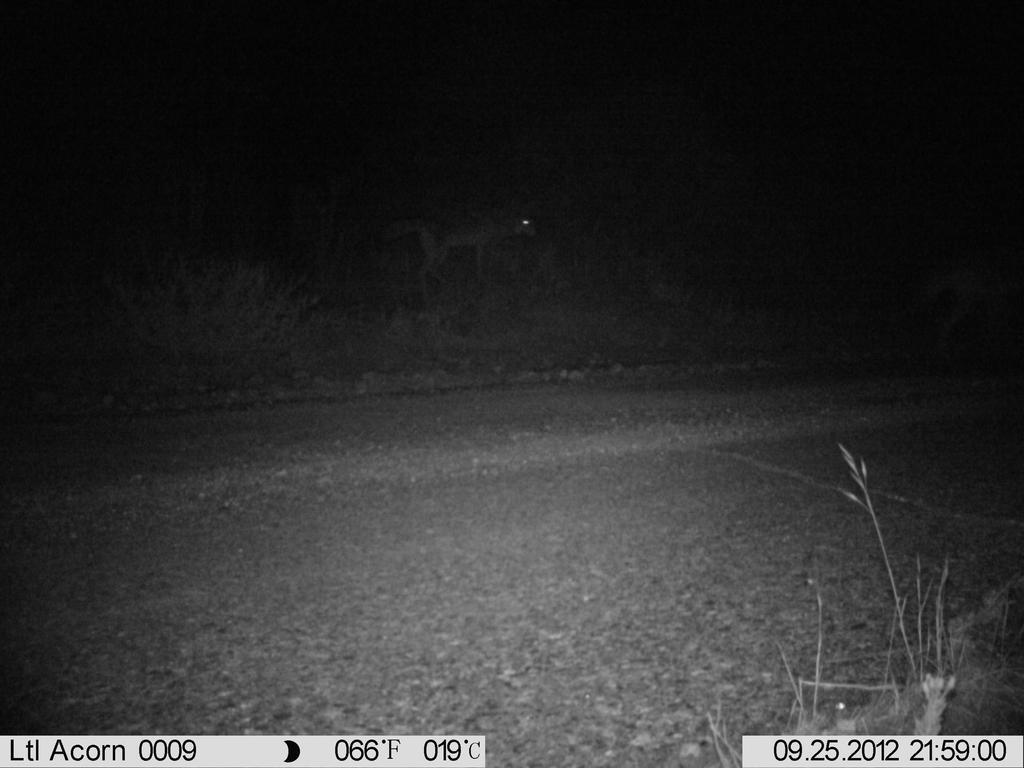coyote: (379, 196, 546, 299)
